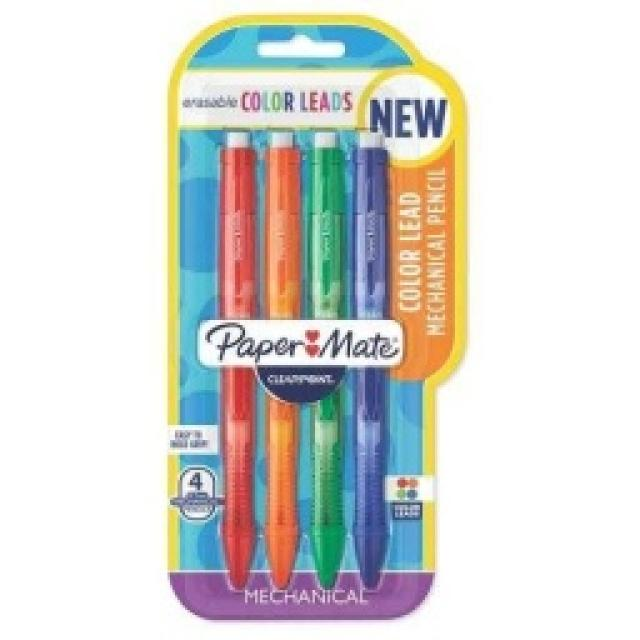pencil: (162, 10, 470, 620)
